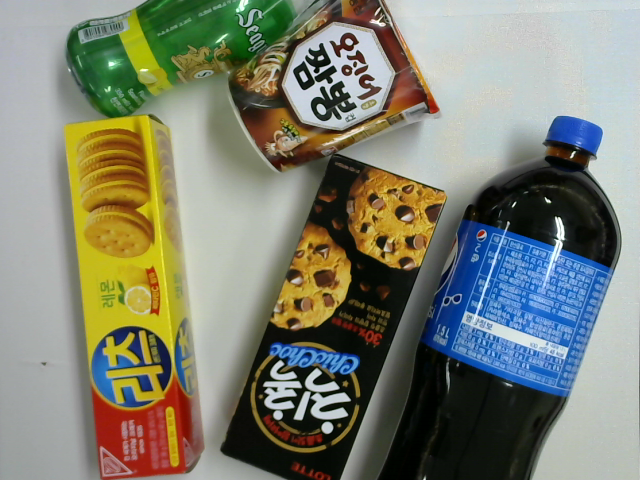Chicchok_Original_2400: (220, 150, 450, 480)
Ojjam: (225, 1, 445, 177)
Pepsi_Cola_1.5L: (371, 114, 626, 480)
Ritz_Remon_96g: (59, 113, 207, 480)
Seagram_Lemon_Carbonated_Water: (65, 1, 337, 121)
